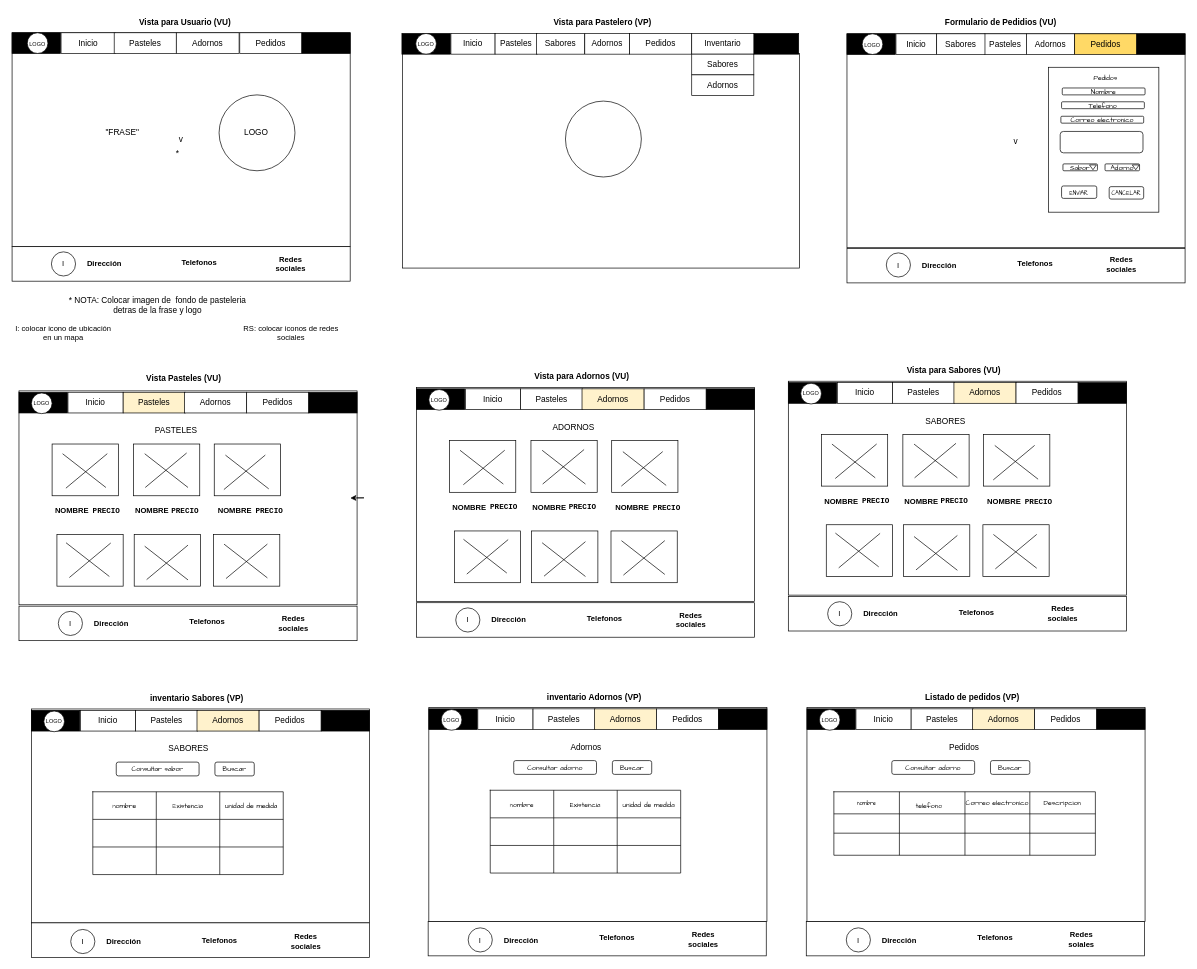
Image size: 1197x969. Some labels were removed from this diagram. Each missing label, with the centre of its shape:
"Descripción general del pastel" goes at [1101,142].
"LOGO (transparente y centrado)" goes at [603,138].
